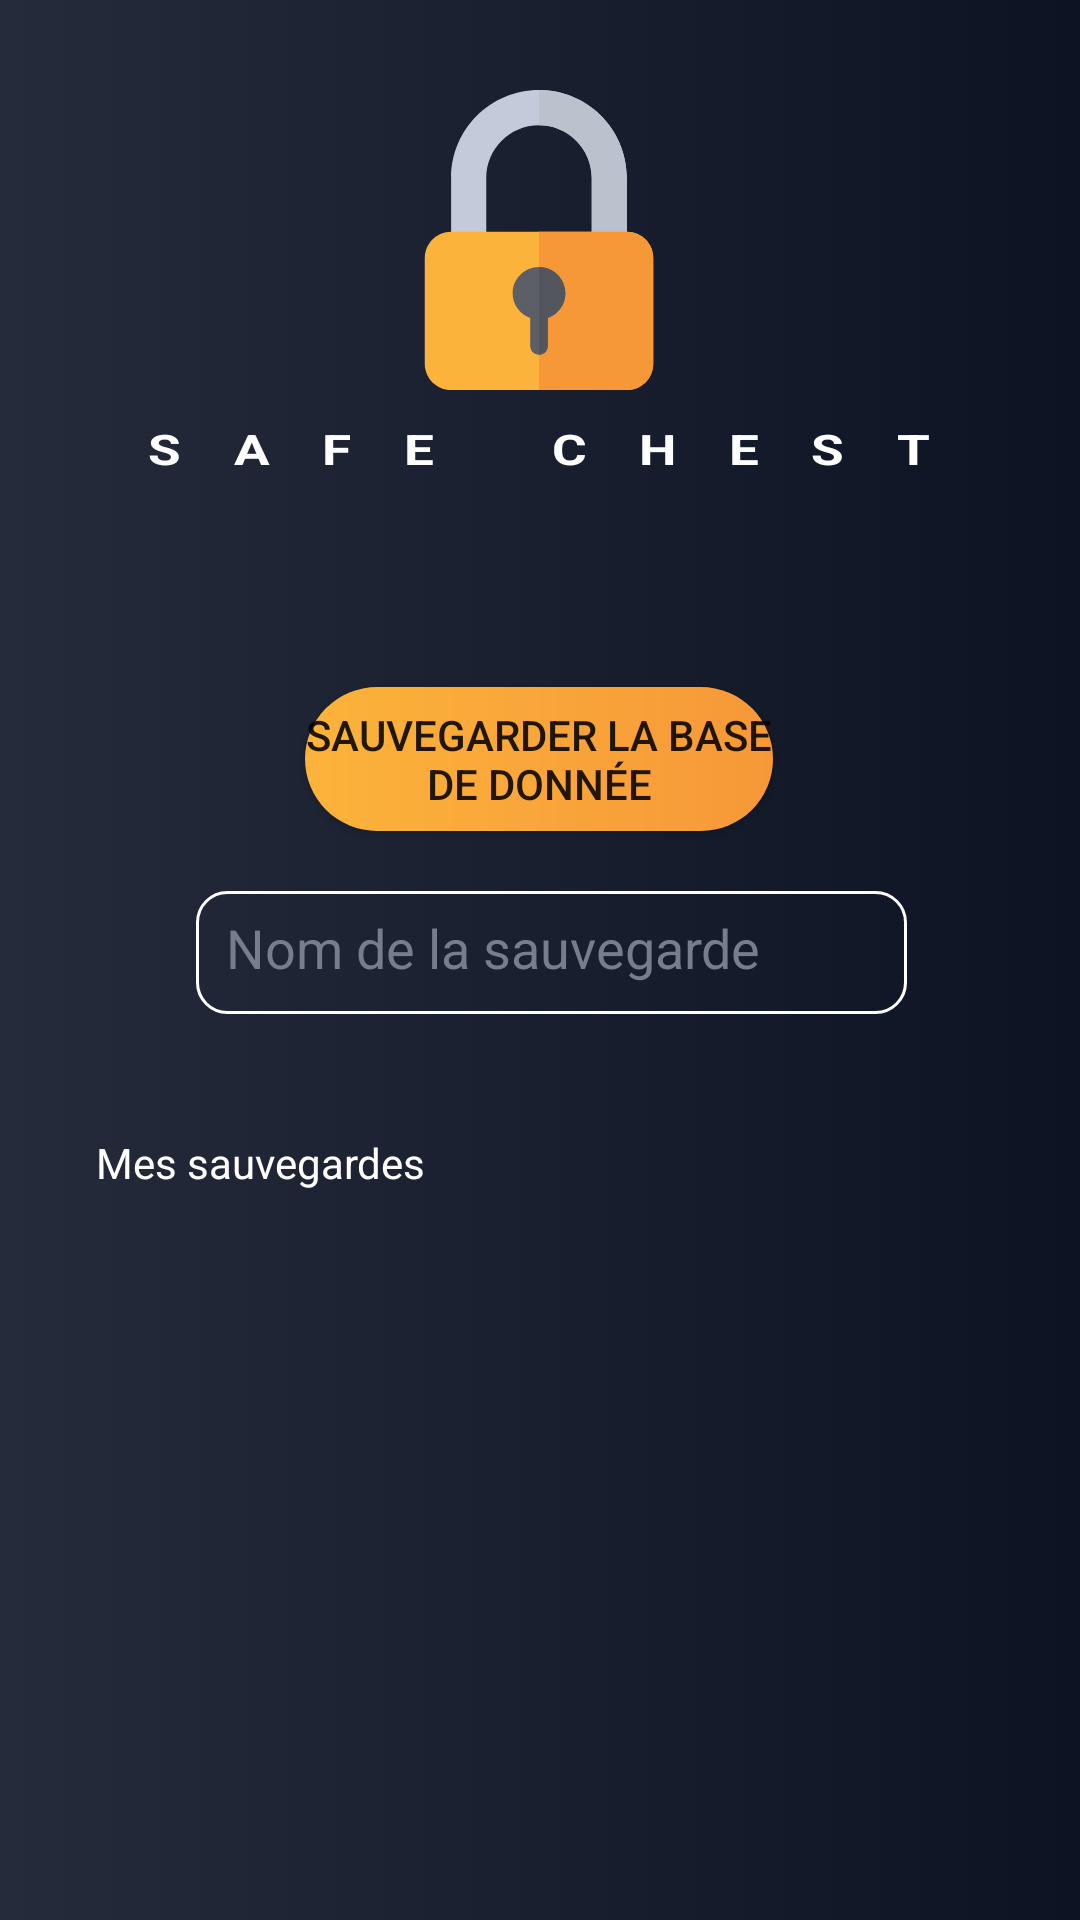

Locate icon controls on the screen. Image size 1080w x 1920h, boxes as bbox(x1, y1, x2, y2).
padlock: bbox(424, 90, 654, 390)
